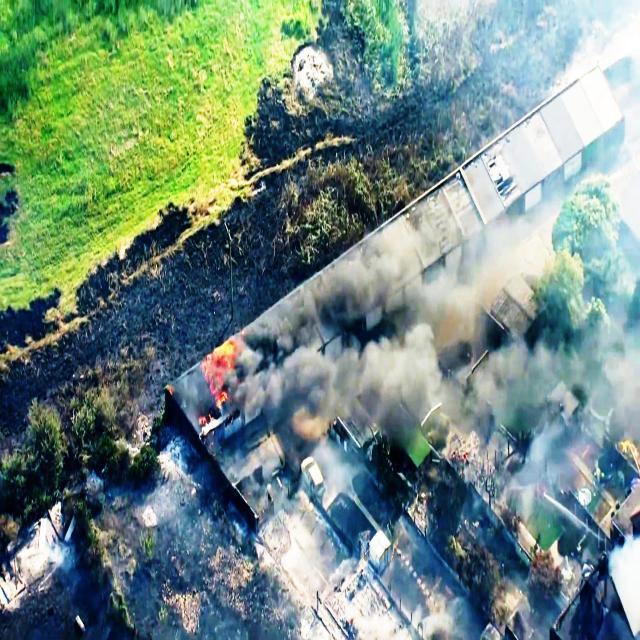Fire: (193, 346, 242, 412)
Smoke: (245, 203, 640, 575)
